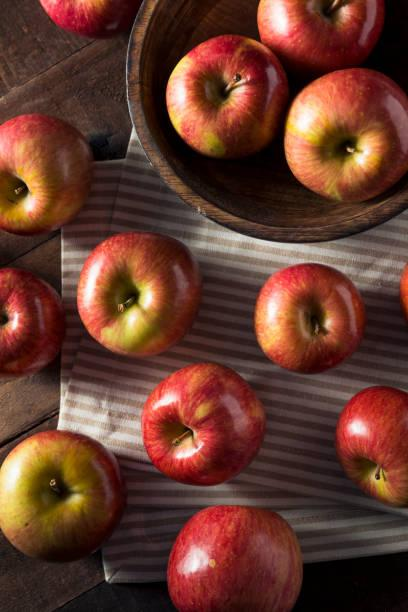apple: (76, 225, 205, 374), (160, 496, 316, 612), (157, 28, 285, 169), (132, 356, 270, 485), (284, 64, 408, 205), (9, 426, 124, 574), (254, 244, 369, 378), (0, 109, 96, 252), (341, 375, 408, 526), (252, 2, 397, 70), (0, 260, 70, 383), (34, 0, 143, 39)
